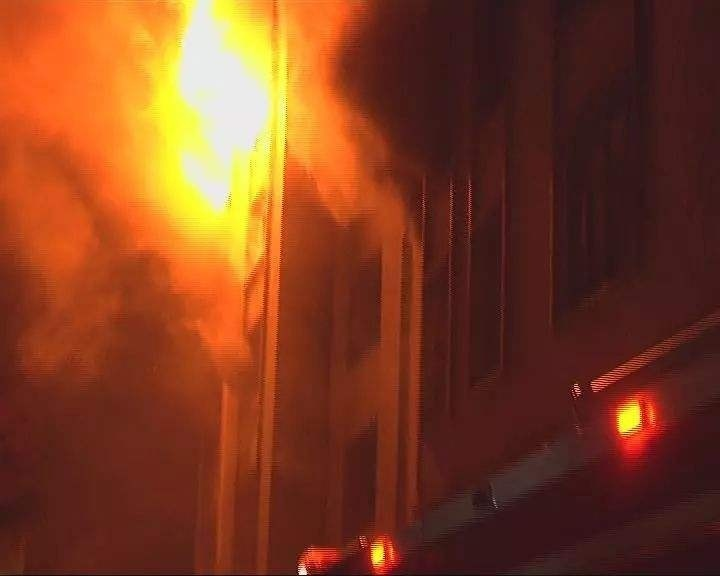fire: (164, 2, 274, 226)
